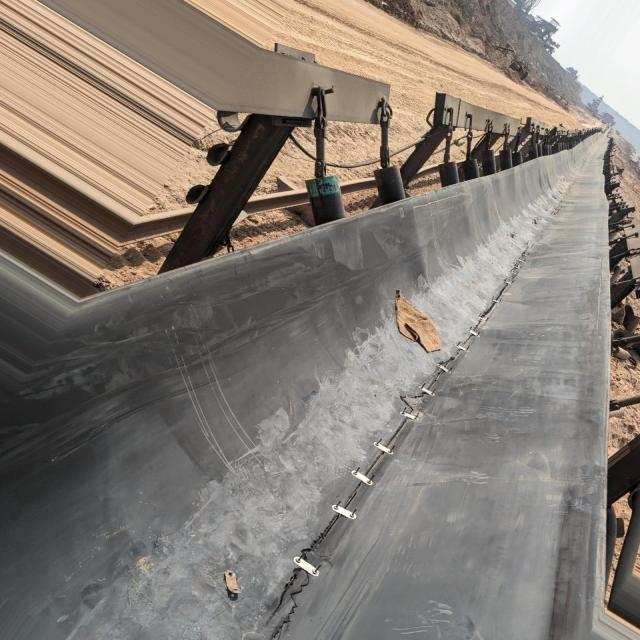Other Objects: (397, 296, 444, 352)
Roller: (304, 142, 556, 225)
patch work: (263, 282, 515, 638)
